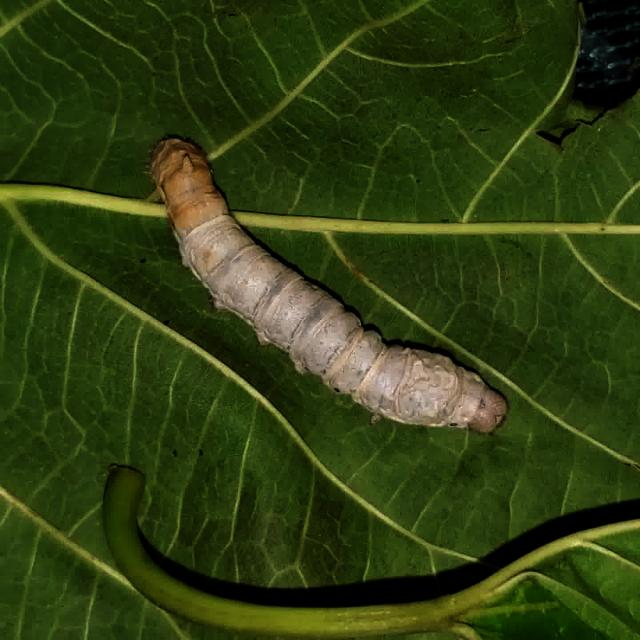Grasserie: (129, 95, 535, 481)
